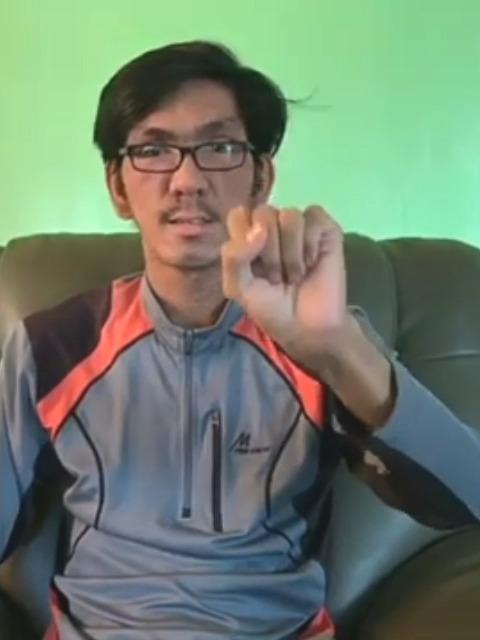S: (214, 198, 360, 348)
